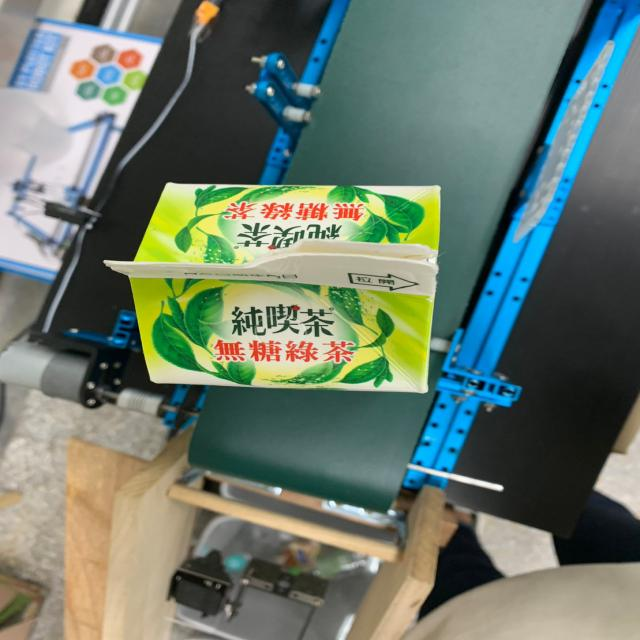non_white_jug: (79, 166, 455, 410)
